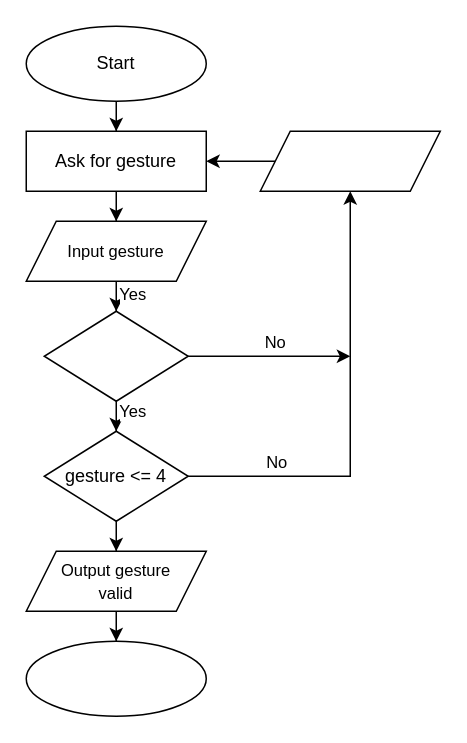
Image size: 467x743. Some labels were removed from this diagram. Each missing label, with the centre of its shape:
End: point 115,678
gesture >= 0: point 115,355
Output gesture invalid: point 349,160
